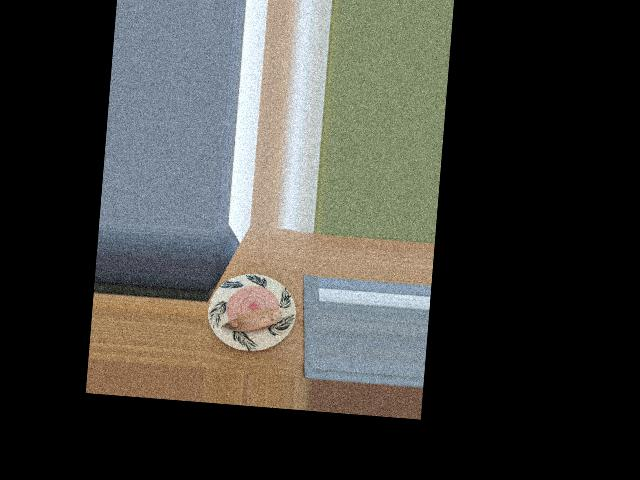sweet_potato: (225, 301, 281, 339)
